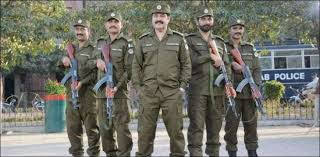gun: (226, 45, 271, 115), (206, 36, 242, 119), (97, 39, 122, 126), (62, 41, 83, 110)
uniform: (135, 27, 184, 154), (57, 40, 104, 157), (185, 29, 228, 150), (220, 38, 265, 150), (98, 35, 135, 157)
